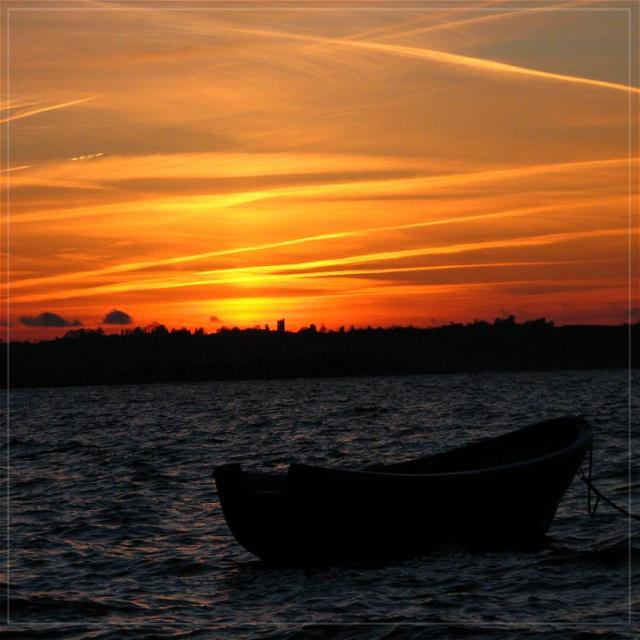Boat: (198, 426, 618, 579)
